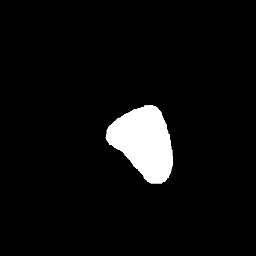mass: (109, 110, 184, 192)
